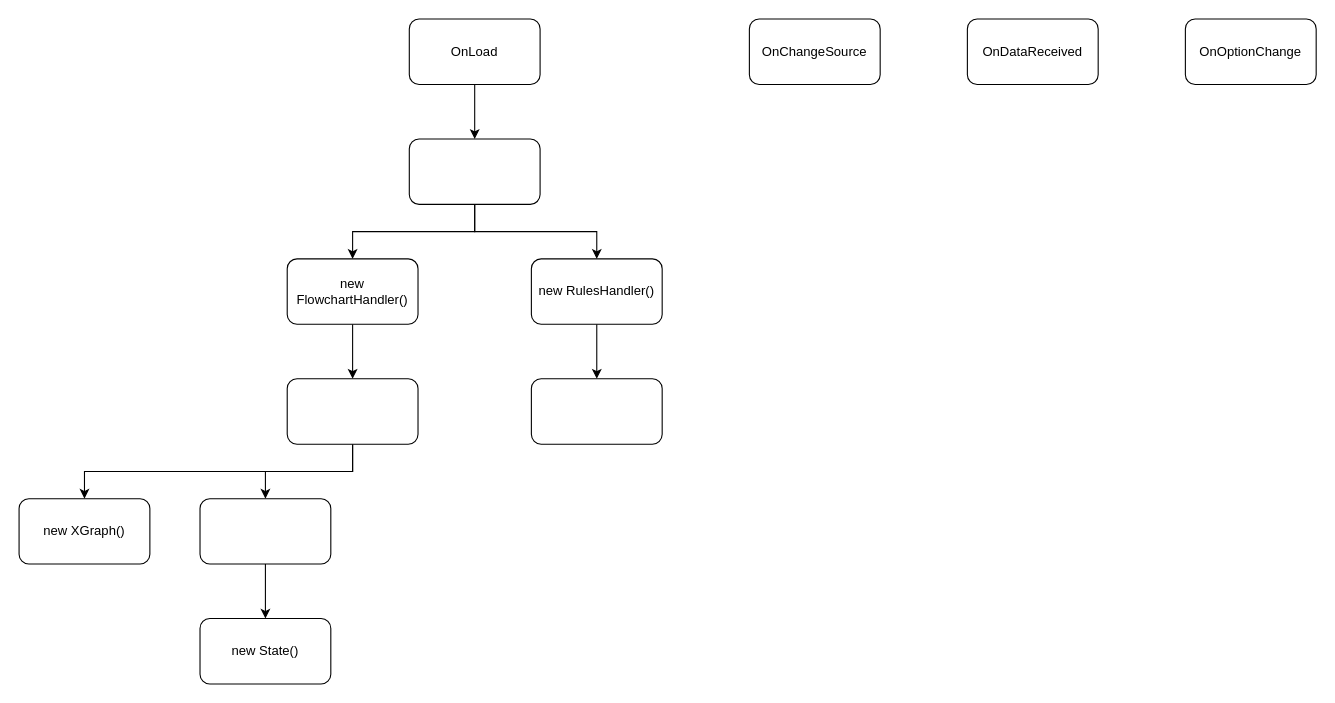
This 1335x703 diagram has some shape labels left out. The shapes that lost their labels are listed below. From the top down, each one's centre as x and y in pixels, then its label:
At point (474, 171): "FlowchartCtrl.link()".
At point (352, 411): "new Flowchart()".
At point (596, 411): "new Rule()".
At point (265, 531): "new StateHandler()".
